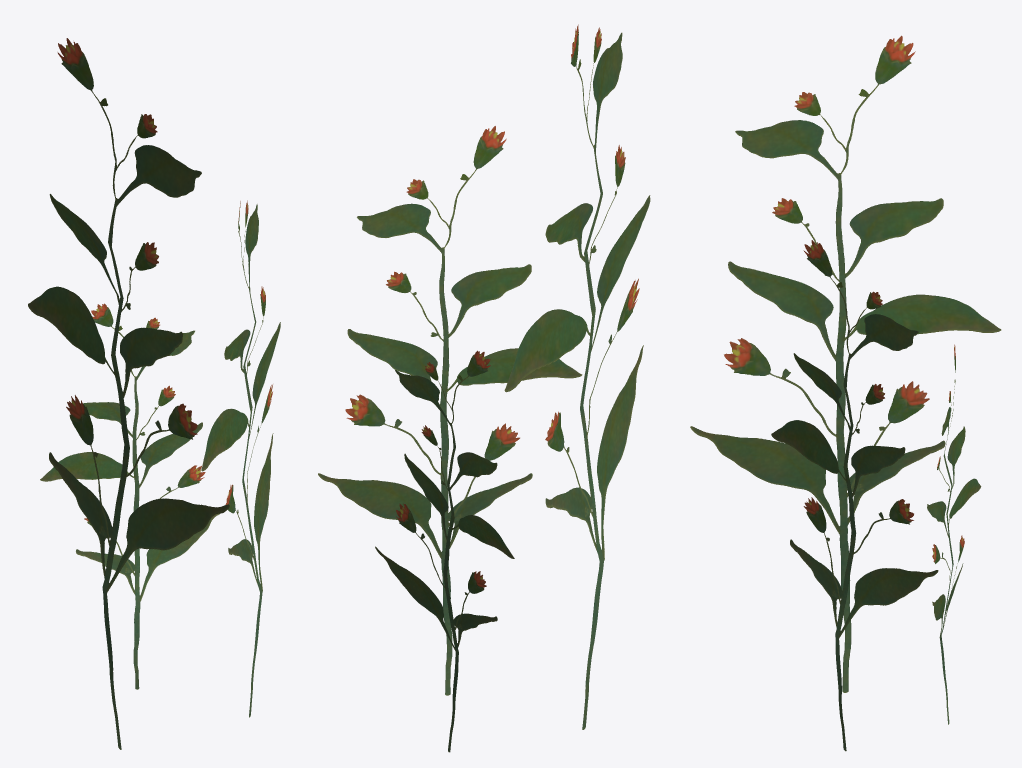
The model's file is SM_Flower_03.fbx.
3 views of the same model, side by side, from view 1: azimuth 30°, elevation 25°; view 2: azimuth 150°, elevation 25°; view 3: azimuth 270°, elevation 25° (orthographic). The views are drawn at different scales.
Visible parts, largest first — view 1: SM_Flower_03_LOD0; view 2: SM_Flower_03_LOD0; view 3: SM_Flower_03_LOD0.
Boxes of the visible parts, x1,y1,x2,y2 form: SM_Flower_03_LOD0: (28,38,280,749); SM_Flower_03_LOD0: (318,24,650,752); SM_Flower_03_LOD0: (690,35,1001,751).
Bounding box in the file's own units: 21.48 × 27.56 × 62.4.
